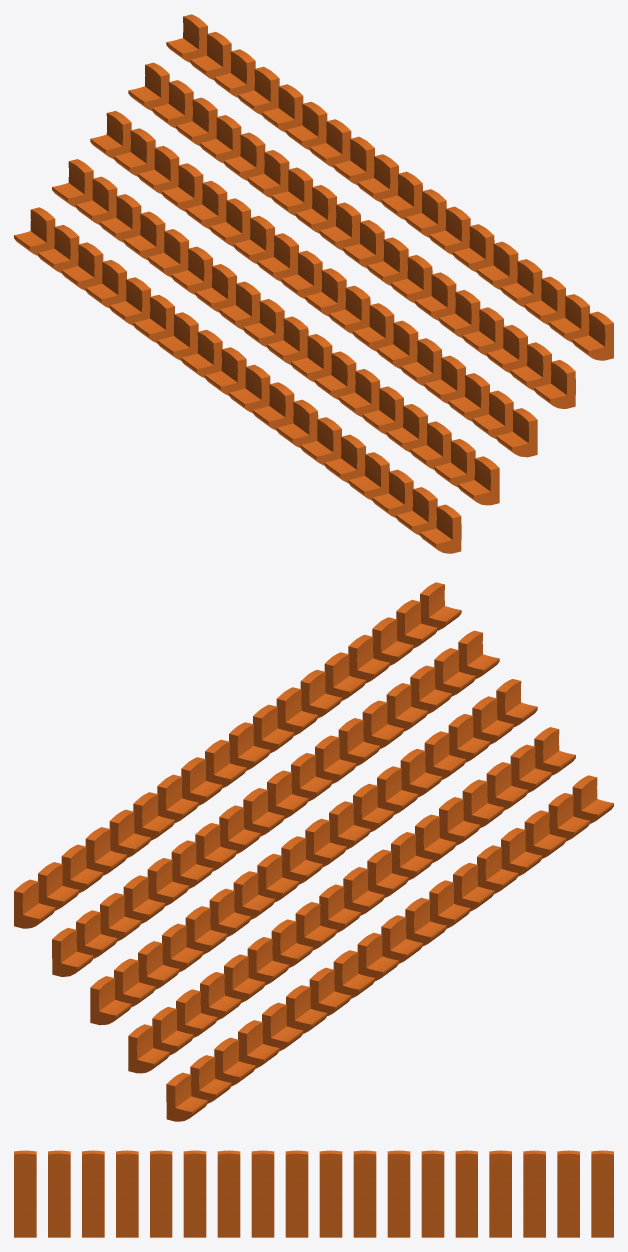
The model's file is schodki.fbx.
The picture shows the model from 3 angles, top to bottom: view 1: azimuth 30°, elevation 25°; view 2: azimuth 150°, elevation 25°; view 3: azimuth 270°, elevation 25°; orthographic projection. The views are drawn at different scales.
Parts seen in each view (by area): view 1: Seat.se.001; view 2: Seat.se.001; view 3: Seat.se.001.
Boxes of the visible parts, x1,y1,x2,y2 form: Seat.se.001: (14,14,613,553); Seat.se.001: (14,582,613,1121); Seat.se.001: (14,1150,613,1237).
Bounding box in the file's own units: 93.53 × 96.57 × 384.
